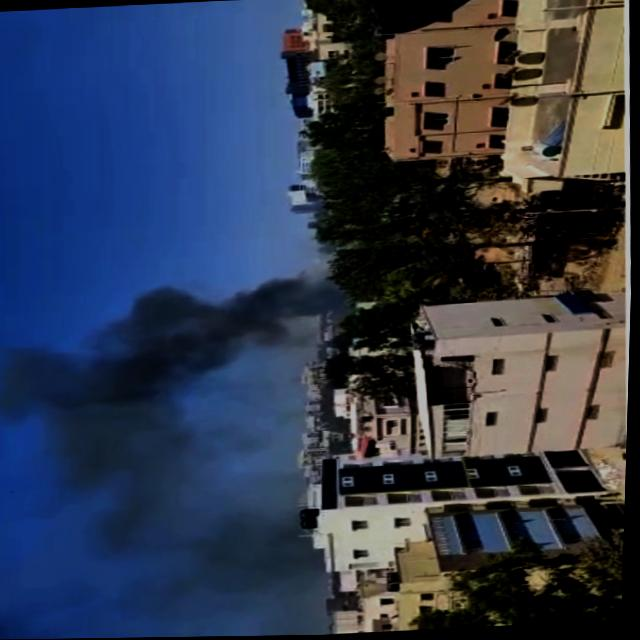no_helmet: (0, 266, 360, 638)
